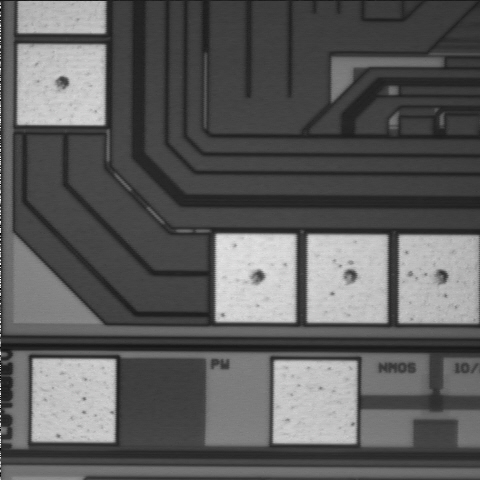pad: (18, 45, 105, 125), (216, 234, 295, 322), (32, 359, 115, 442), (308, 235, 387, 322), (399, 236, 478, 323), (274, 361, 356, 443)
